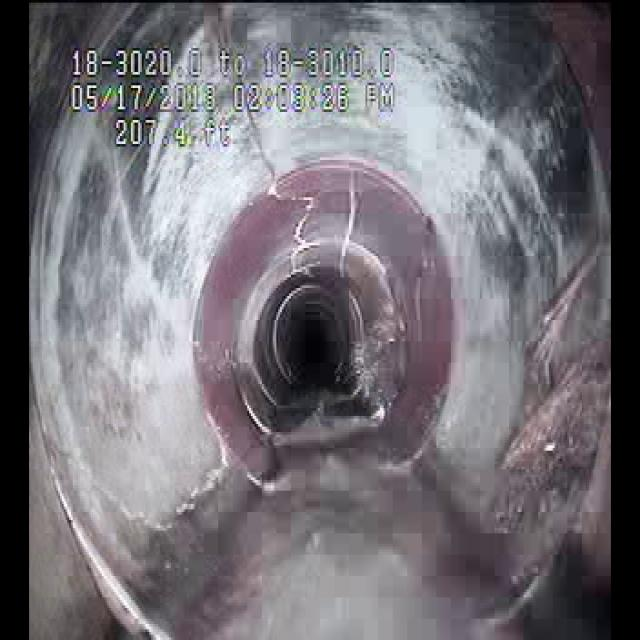Crack: (244, 141, 358, 257)
